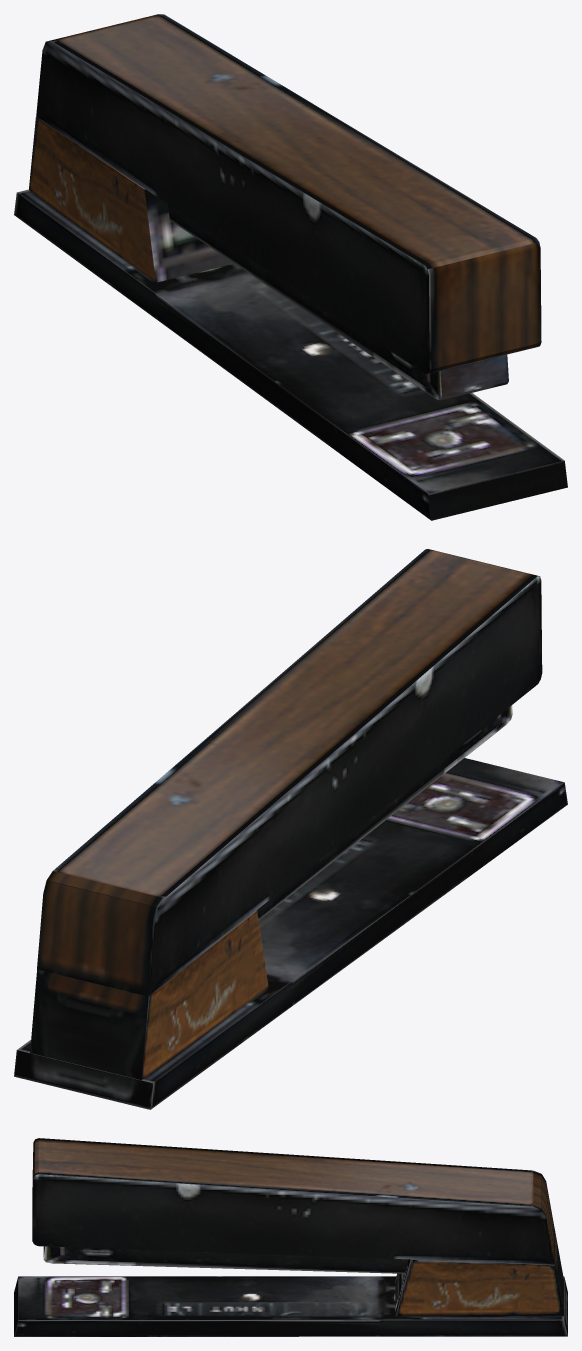
File: stapler.FBX
The picture shows the model from 3 angles, top to bottom: view 1: azimuth 30°, elevation 25°; view 2: azimuth 150°, elevation 25°; view 3: azimuth 270°, elevation 25°; orthographic projection. The views are drawn at different scales.
Parts seen in each view (by area): view 1: stapler-1_LOD0; view 2: stapler-1_LOD0; view 3: stapler-1_LOD0.
Part boxes in pixels (x1,y1,x2,y2): stapler-1_LOD0: [14, 14, 567, 520]; stapler-1_LOD0: [14, 549, 567, 1109]; stapler-1_LOD0: [14, 1138, 567, 1336].
Size of the model in its own units: 1.8 by 3 by 9.52.
